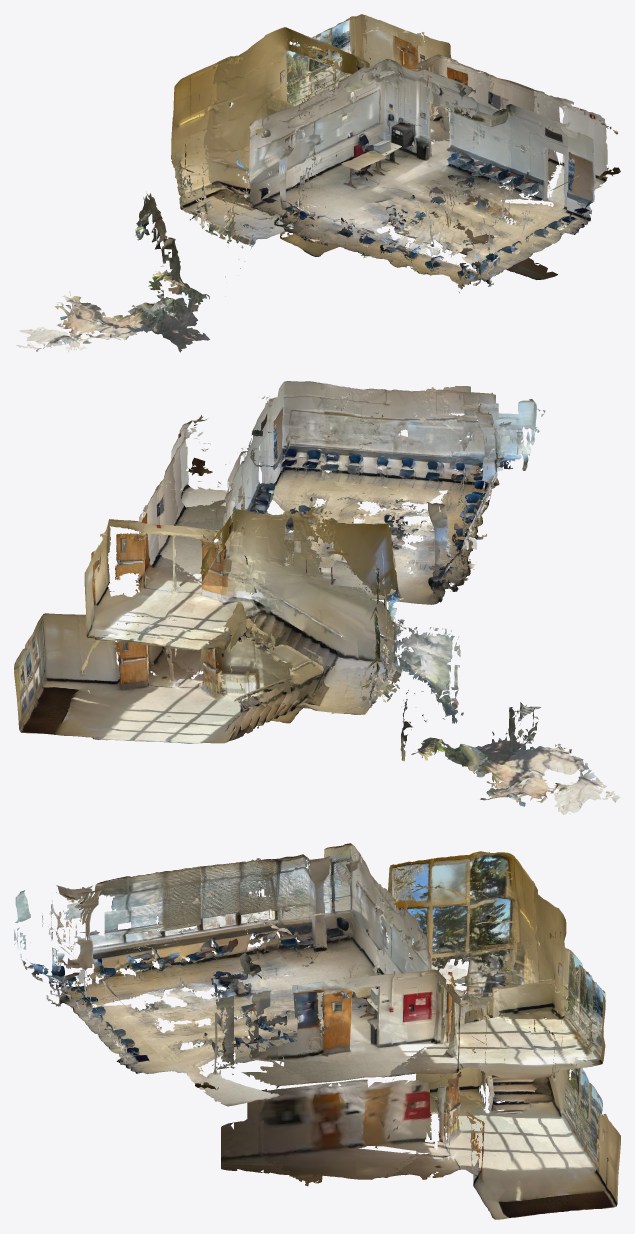
File: hss349-v2.glb
The picture shows the model from 3 angles, top to bottom: view 1: azimuth 30°, elevation 25°; view 2: azimuth 150°, elevation 25°; view 3: azimuth 270°, elevation 25°; orthographic projection. The views are drawn at different scales.
Parts seen in each view (by area): view 1: 0364850F43F04BD5BDBF1680A3F45A37, 09770F4A9D0D4F089A422AE8252DBCE5, 46E31753462046BF81A124FA237523EE, 3C3B7A1228A942AFBB5442613E5B594D, B7C36D061A124D5EB59662A95F988791, 476DE3BAEAA24F0DBFD4A0D91B733206, 0BC3D224A48340CBB85BAB71E4498358; view 2: 0364850F43F04BD5BDBF1680A3F45A37, B7C36D061A124D5EB59662A95F988791, 476DE3BAEAA24F0DBFD4A0D91B733206, 09770F4A9D0D4F089A422AE8252DBCE5, 46E31753462046BF81A124FA237523EE, 3C3B7A1228A942AFBB5442613E5B594D, 0BC3D224A48340CBB85BAB71E4498358; view 3: 0364850F43F04BD5BDBF1680A3F45A37, B7C36D061A124D5EB59662A95F988791, 0BC3D224A48340CBB85BAB71E4498358, 09770F4A9D0D4F089A422AE8252DBCE5, 3C3B7A1228A942AFBB5442613E5B594D, 46E31753462046BF81A124FA237523EE, 476DE3BAEAA24F0DBFD4A0D91B733206.
Boxes of the visible parts, box(x1,y1,x2,y2) form: 0364850F43F04BD5BDBF1680A3F45A37: box(249, 56, 539, 271); 09770F4A9D0D4F089A422AE8252DBCE5: box(16, 56, 301, 352); 46E31753462046BF81A124FA237523EE: box(471, 90, 620, 279); 3C3B7A1228A942AFBB5442613E5B594D: box(203, 14, 367, 195); B7C36D061A124D5EB59662A95F988791: box(308, 15, 495, 232); 476DE3BAEAA24F0DBFD4A0D91B733206: box(422, 149, 576, 293); 0BC3D224A48340CBB85BAB71E4498358: box(299, 152, 467, 274); 0364850F43F04BD5BDBF1680A3F45A37: box(156, 412, 472, 717); B7C36D061A124D5EB59662A95F988791: box(14, 485, 251, 738); 476DE3BAEAA24F0DBFD4A0D91B733206: box(317, 383, 545, 515); 09770F4A9D0D4F089A422AE8252DBCE5: box(258, 530, 620, 814); 46E31753462046BF81A124FA237523EE: box(171, 381, 375, 594); 3C3B7A1228A942AFBB5442613E5B594D: box(84, 533, 310, 743); 0BC3D224A48340CBB85BAB71E4498358: box(376, 417, 522, 577); 0364850F43F04BD5BDBF1680A3F45A37: box(174, 843, 484, 1186); B7C36D061A124D5EB59662A95F988791: box(380, 911, 620, 1219); 0BC3D224A48340CBB85BAB71E4498358: box(78, 859, 269, 1020); 09770F4A9D0D4F089A422AE8252DBCE5: box(385, 851, 539, 1108); 3C3B7A1228A942AFBB5442613E5B594D: box(484, 881, 605, 1174); 46E31753462046BF81A124FA237523EE: box(116, 923, 311, 1174); 476DE3BAEAA24F0DBFD4A0D91B733206: box(14, 882, 177, 1057).
Size of the model in its own units: 20.18 by 8.16 by 18.47.
7 materials, 7 textured.
